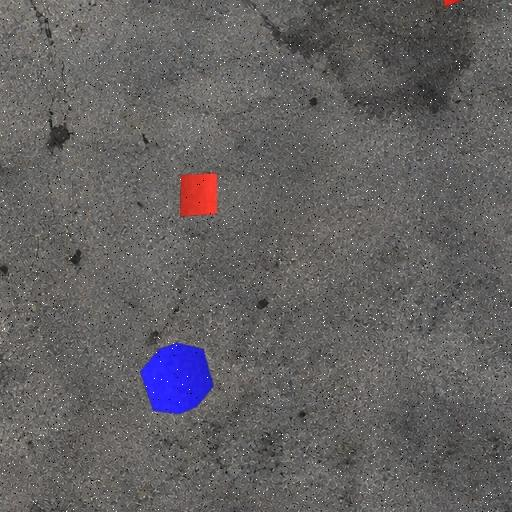RED_SQUARE: (180, 173, 218, 217)
